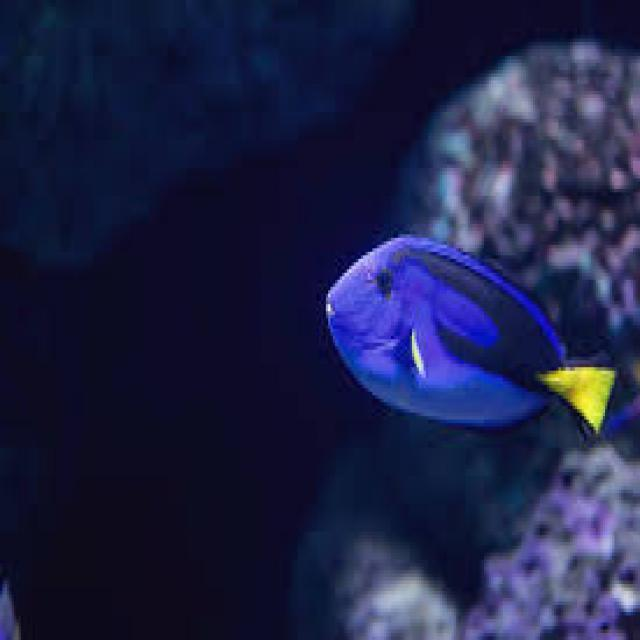TangFish: (324, 232, 616, 434)
